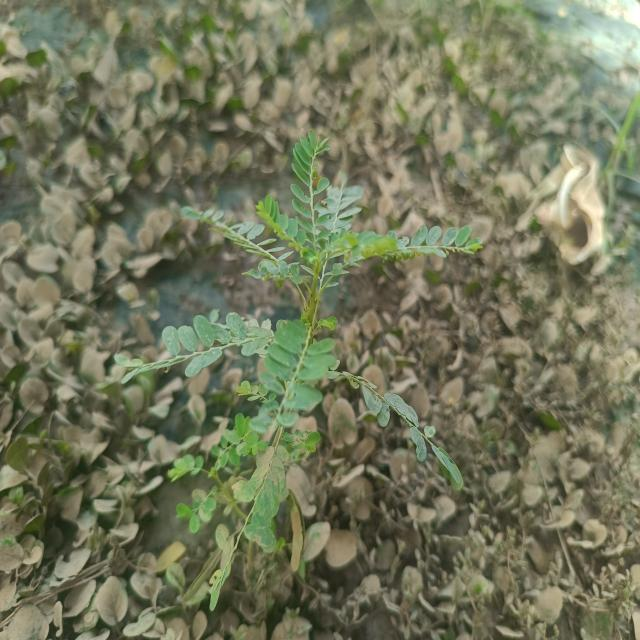weed: (115, 102, 467, 583)
